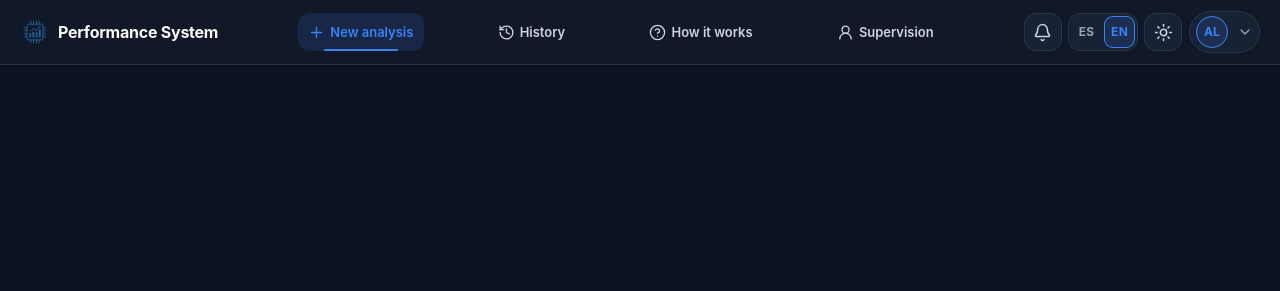
Navbar i18n › keeps authorization semantics while translating roles and modules
Click the button named "Ada Lovelace" at [1224, 32], box [1189, 11, 1260, 53]
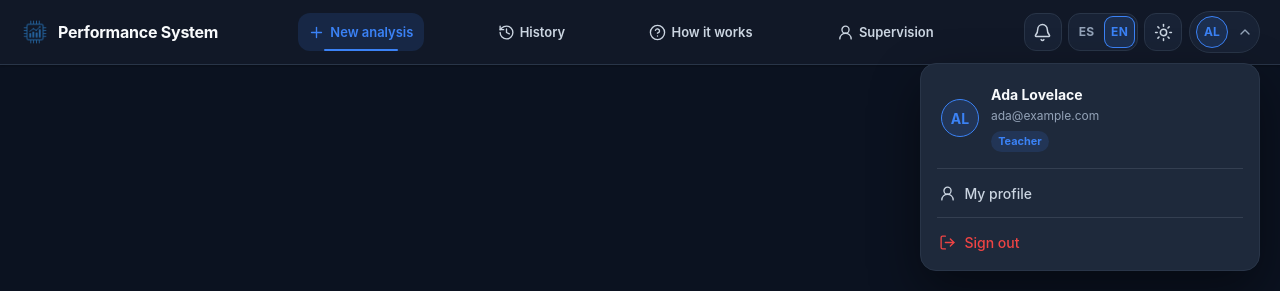
Now the text "Teacher" is shown, box [991, 131, 1049, 152]
Now the menu item "My profile" is shown, box [939, 185, 1032, 202]
Now the menu item "Sign out" is shown, box [929, 222, 1251, 262]
